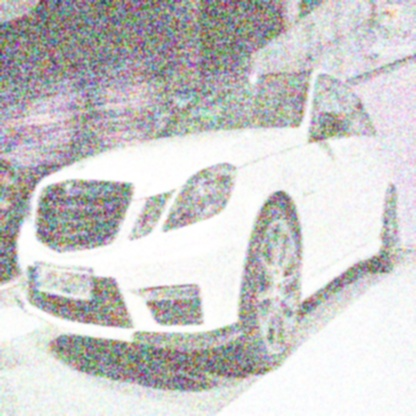Vehicle: (14, 68, 400, 386)
